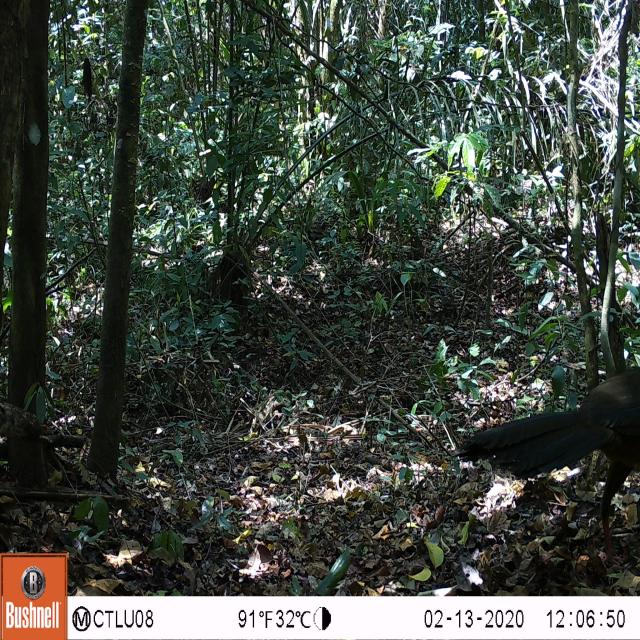Spixs Guan: (456, 360, 640, 572)
